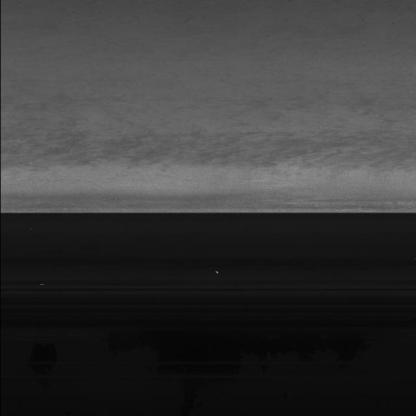silk_spot: (86, 124, 370, 174)
